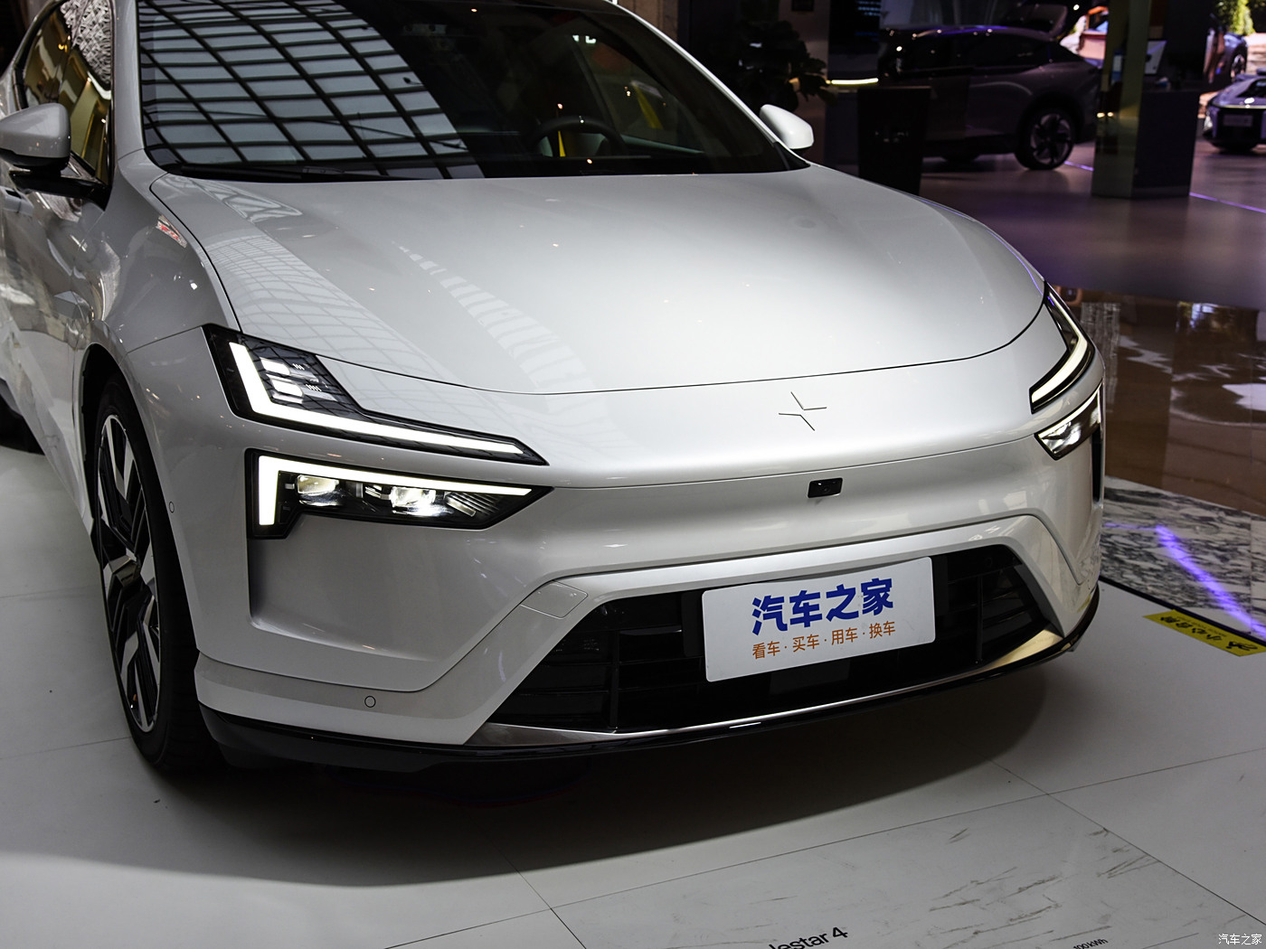Polestar: (779, 391, 827, 430)
